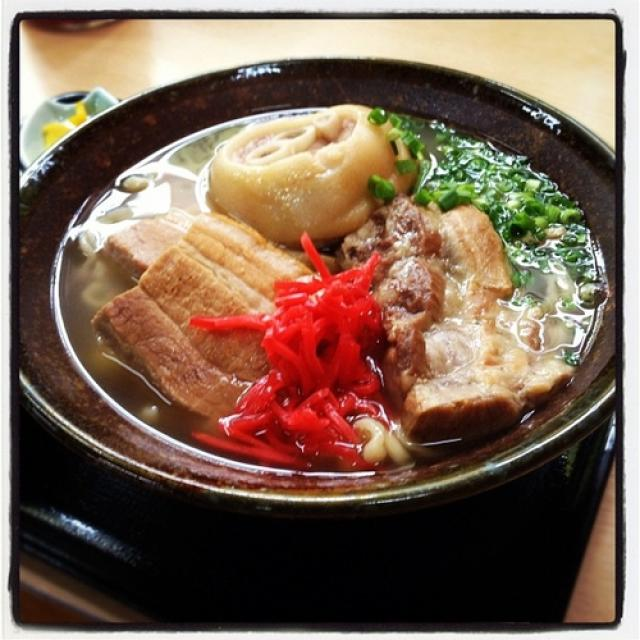汤锅炖物: (0, 55, 560, 640)
